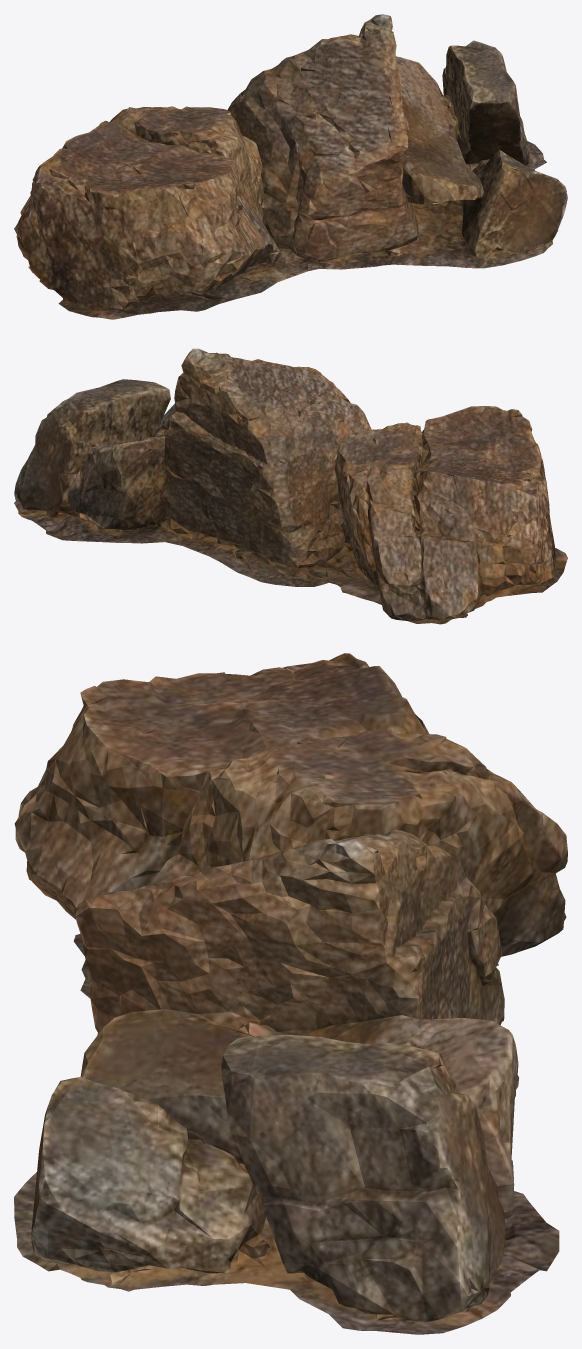
The model's file is namaqualand_boulder_02.glb.
The picture shows the model from 3 angles, top to bottom: view 1: azimuth 30°, elevation 25°; view 2: azimuth 150°, elevation 25°; view 3: azimuth 270°, elevation 25°; orthographic projection. The views are drawn at different scales.
Visible parts, largest first — view 1: boulder_02; view 2: boulder_02; view 3: boulder_02.
Boxes of the visible parts, x1,y1,x2,y2 form: boulder_02: (14, 14, 567, 319); boulder_02: (14, 348, 567, 624); boulder_02: (14, 653, 567, 1334).
Size of the model in its own units: 2.53 by 0.8805 by 1.23.
1 material, 1 textured.
